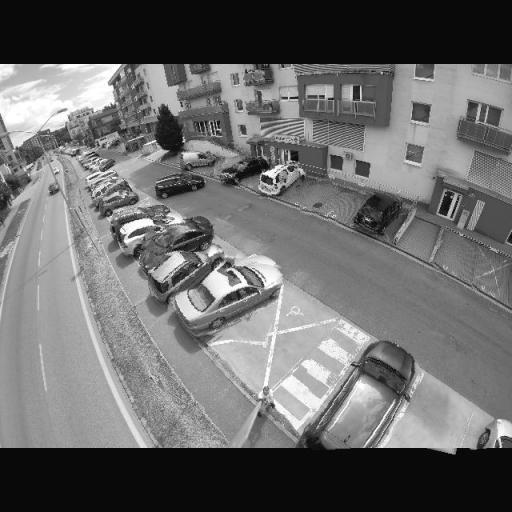busy: (308, 341, 422, 449), (167, 250, 281, 344), (146, 241, 227, 293), (142, 215, 213, 262), (116, 212, 184, 248), (350, 192, 400, 234), (254, 164, 303, 198), (110, 204, 168, 232), (469, 418, 512, 449), (217, 158, 263, 186), (150, 174, 202, 197), (175, 150, 215, 172), (98, 190, 138, 212), (92, 180, 130, 198), (90, 158, 114, 170)
free: (391, 416, 460, 451), (296, 180, 336, 217), (472, 258, 510, 296), (328, 188, 366, 226), (434, 242, 475, 276), (240, 162, 274, 196)
